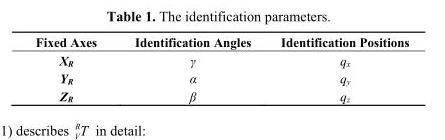table: (34, 34, 408, 103)
table column: (115, 34, 265, 103), (265, 34, 408, 103), (34, 34, 115, 103)
table column header: (34, 34, 408, 50)
table row: (34, 50, 408, 69), (34, 69, 408, 86), (34, 86, 408, 103), (34, 34, 408, 50)
